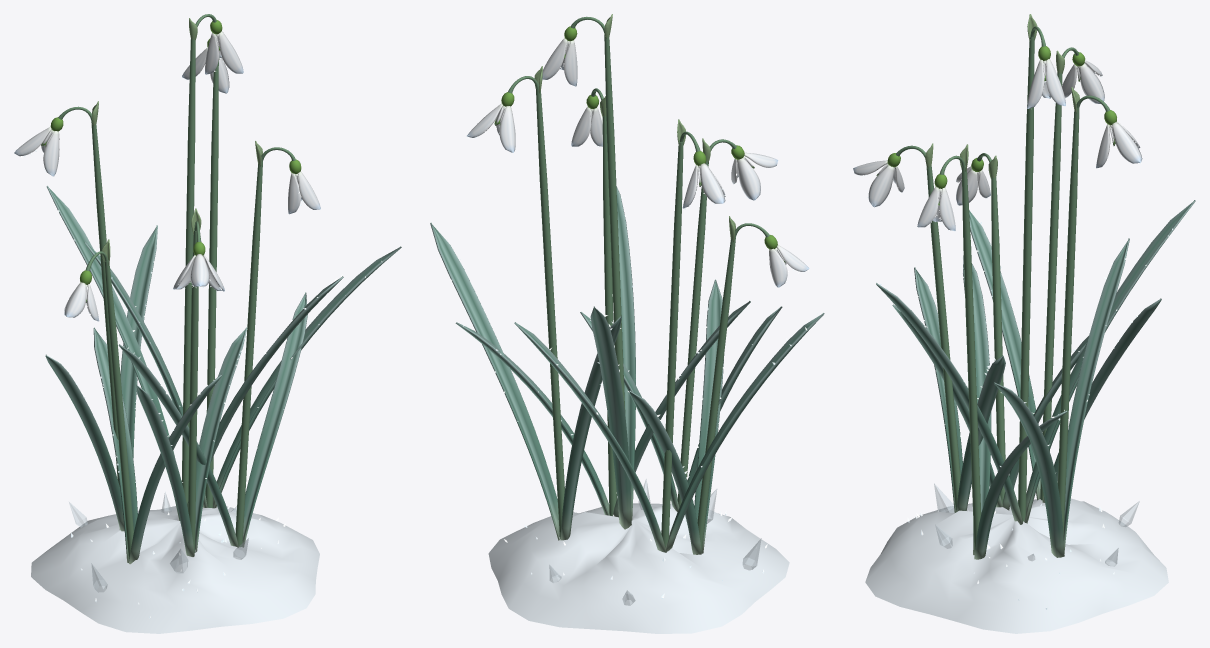
Rendered from f2_frost_snowdrop.glb.
3 renders of one model, left to right at view 1: azimuth 30°, elevation 25°; view 2: azimuth 150°, elevation 25°; view 3: azimuth 270°, elevation 25°, orthographic. The views are drawn at different scales.
Parts seen in each view (by area): view 1: f2_frost_snowdrop; view 2: f2_frost_snowdrop; view 3: f2_frost_snowdrop.
Part boxes in pixels (<box>): f2_frost_snowdrop: <box>14,14,401,633</box>; f2_frost_snowdrop: <box>430,14,824,633</box>; f2_frost_snowdrop: <box>853,14,1195,633</box>.
Size of the model in its own units: 0.238 by 0.3347 by 0.1853.
